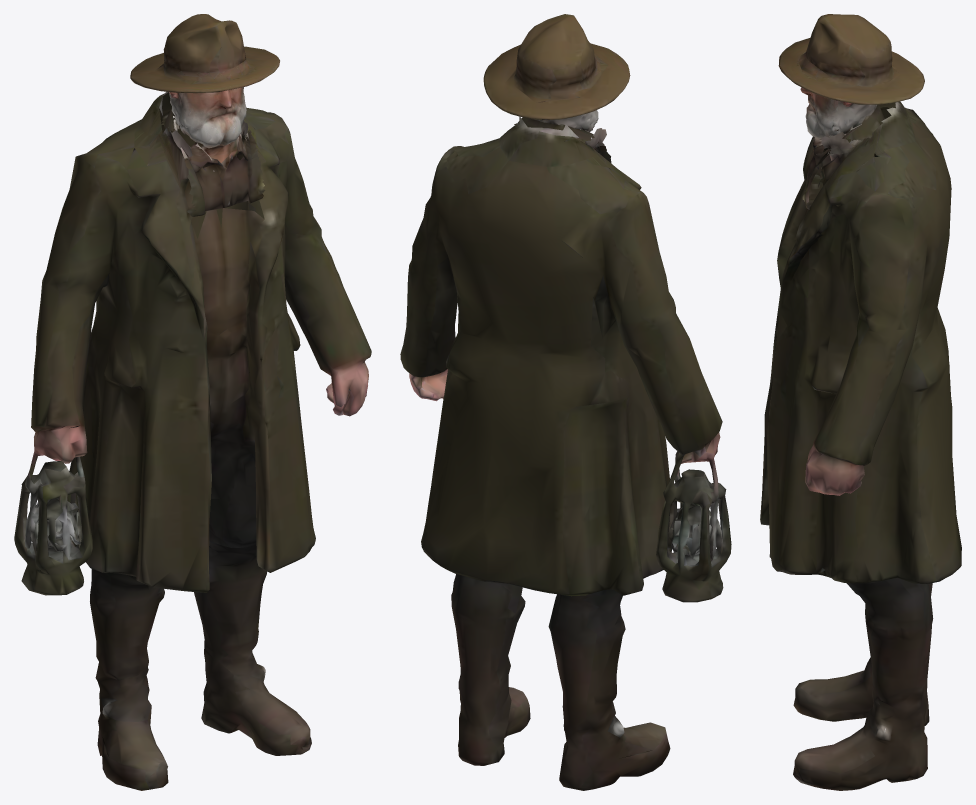
Rendered from ranger.phone.glb.
3 renders of one model, left to right at view 1: azimuth 30°, elevation 25°; view 2: azimuth 150°, elevation 25°; view 3: azimuth 270°, elevation 25°, orthographic. The views are drawn at different scales.
Visible parts, largest first — view 1: ranger.phone.raw; view 2: ranger.phone.raw; view 3: ranger.phone.raw.
Part boxes in pixels (x1,y1,x2,y2): ranger.phone.raw: (14, 14, 371, 790); ranger.phone.raw: (400, 14, 731, 790); ranger.phone.raw: (760, 14, 961, 790).
Size of the model in its own units: 0.8432 by 1.8 by 0.4501.
1 material, 1 textured.
